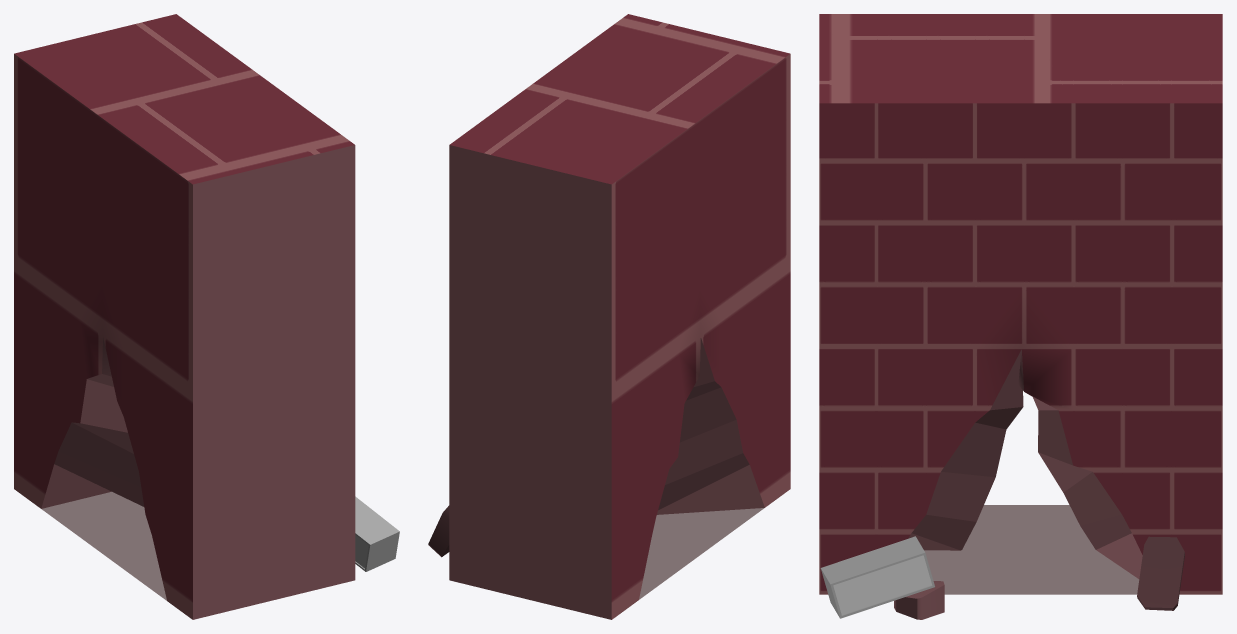
File: Exit.fbx
3 renders of one model, left to right at view 1: azimuth 30°, elevation 25°; view 2: azimuth 150°, elevation 25°; view 3: azimuth 270°, elevation 25°, orthographic. The views are drawn at different scales.
Visible parts, largest first — view 1: pCube1, pPlane1, pCube2; view 2: pCube1, pPlane1, pasted__pasted__pCube2; view 3: pCube1, pPlane1, pCube2, pasted__pasted__pCube2, pasted__pCube2.
Boxes of the visible parts, x1,y1,x2,y2 form: pCube1: (14, 14, 355, 619); pPlane1: (41, 491, 166, 600); pCube2: (355, 496, 399, 571); pCube1: (449, 14, 790, 619); pPlane1: (639, 508, 764, 599); pasted__pasted__pCube2: (428, 505, 449, 557); pCube1: (819, 14, 1222, 594); pPlane1: (924, 505, 1139, 594); pCube2: (820, 536, 934, 618); pasted__pasted__pCube2: (1137, 536, 1184, 610); pasted__pCube2: (894, 581, 944, 619).
Bounding box in the file's own units: 1.31 × 2.57 × 1.91.
